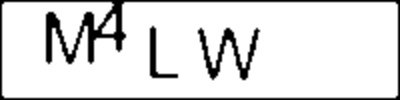4: (91, 1, 128, 53)
L: (145, 19, 185, 81)
M: (43, 7, 97, 66)
W: (192, 23, 263, 83)
